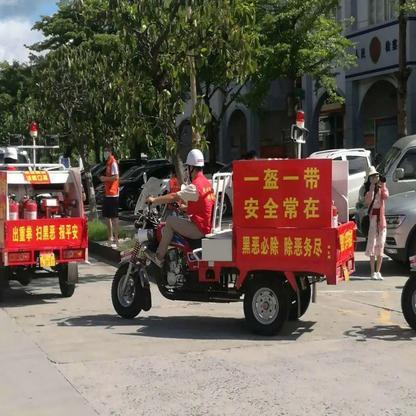target: (107, 147, 357, 332)
